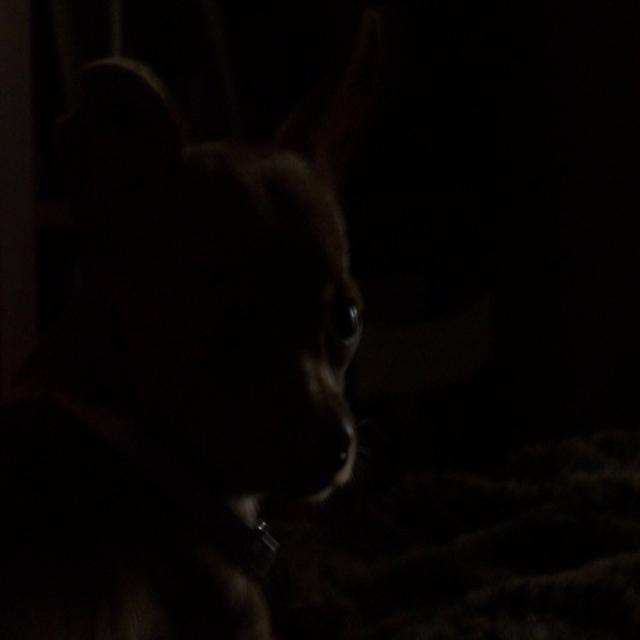Dog: (48, 77, 431, 631)
